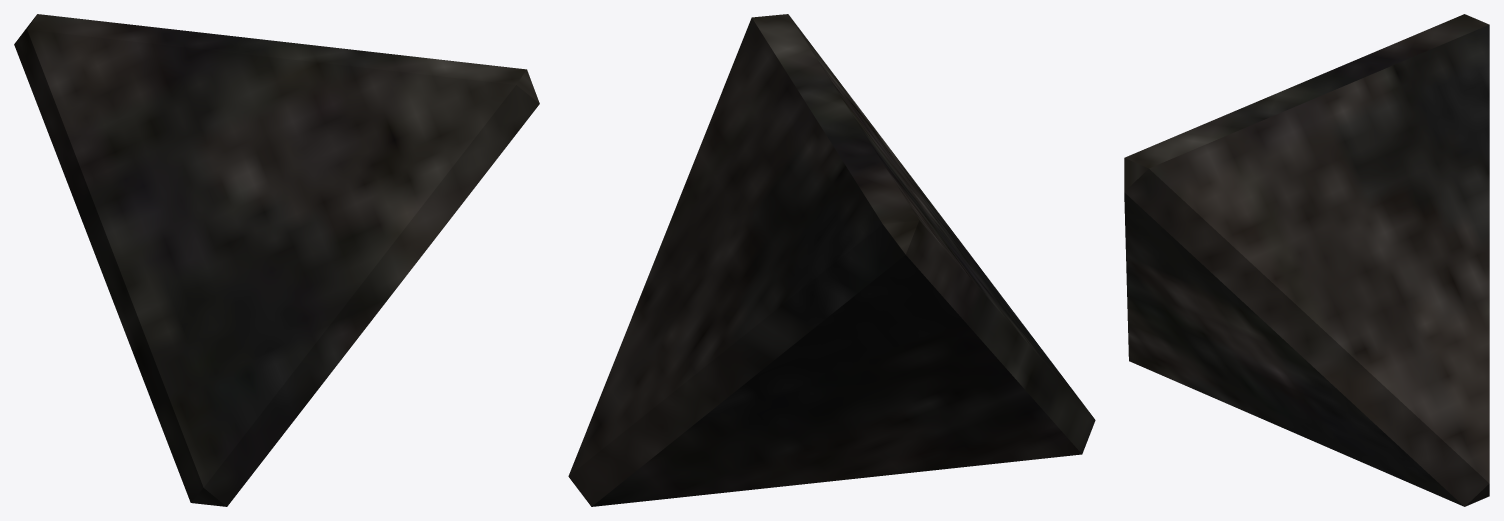
3 renders of one model, left to right at view 1: azimuth 30°, elevation 25°; view 2: azimuth 150°, elevation 25°; view 3: azimuth 270°, elevation 25°, orthographic. The views are drawn at different scales.
Visible parts, largest first — view 1: d4; view 2: d4; view 3: d4.
Boxes of the visible parts, x1,y1,x2,y2 form: d4: (14, 14, 539, 506); d4: (568, 14, 1095, 506); d4: (1124, 14, 1489, 506).
Bounding box in the file's own units: 119 × 119 × 117.
Materials: 1 (1 with a texture image).
